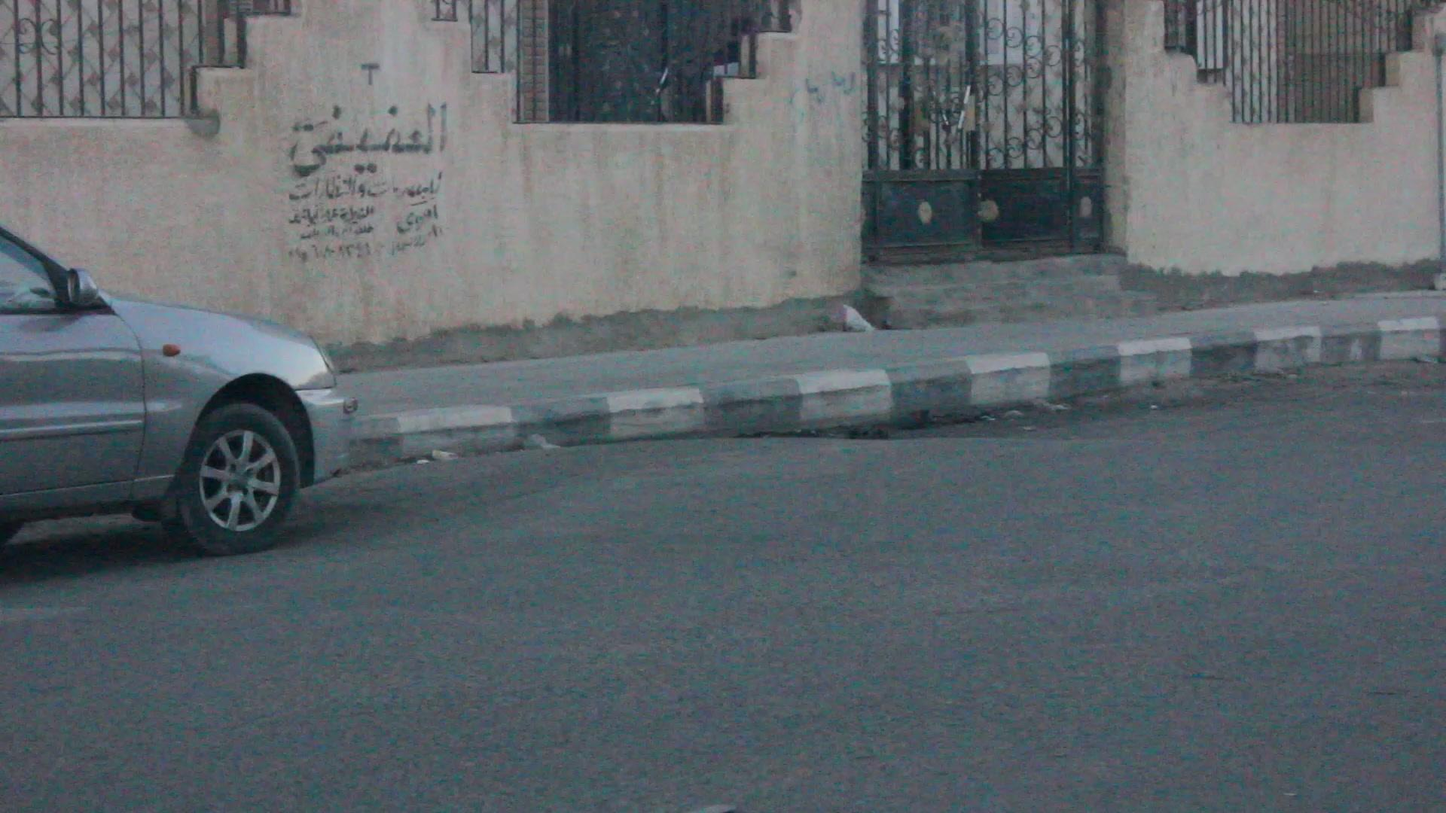Bump: (313, 414, 1445, 574)
